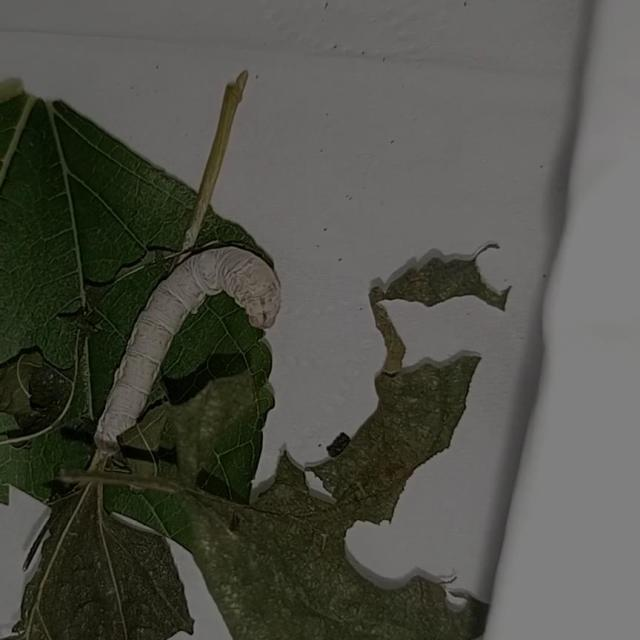Healthy: (88, 222, 298, 473)
